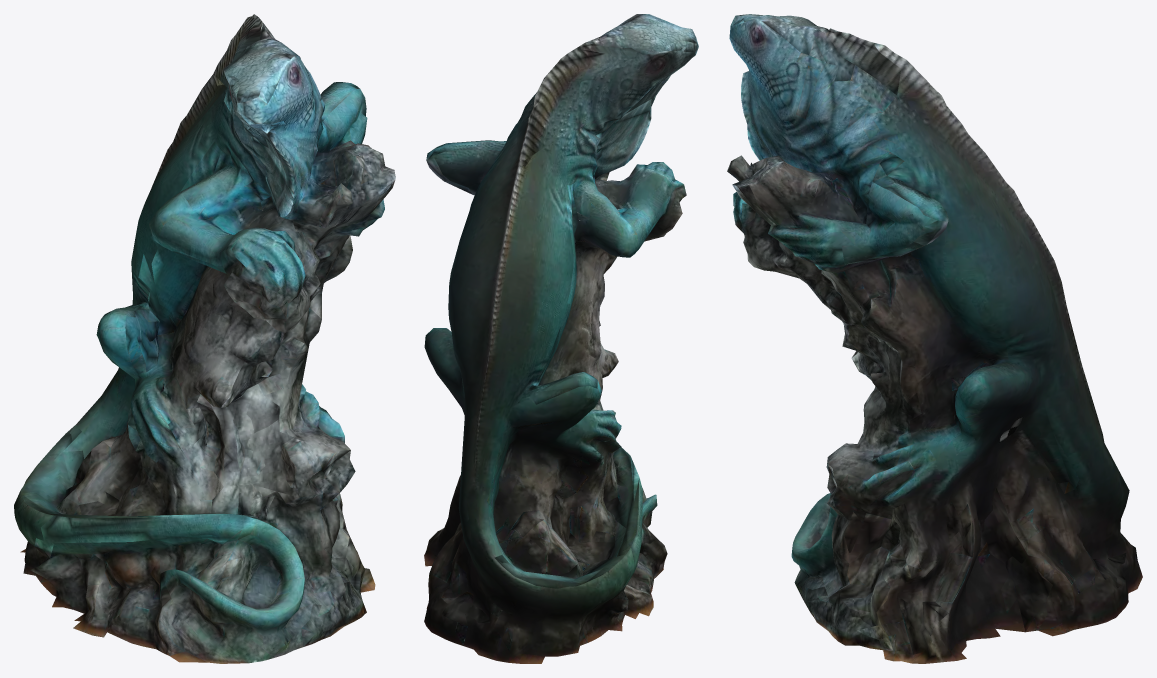
File: bokrug-statue.glb
The picture shows the model from 3 angles, left to right: view 1: azimuth 30°, elevation 25°; view 2: azimuth 150°, elevation 25°; view 3: azimuth 270°, elevation 25°; orthographic projection. The views are drawn at different scales.
Visible parts, largest first — view 1: Body, Head; view 2: Body, Head; view 3: Body, Head.
Boxes of the visible parts, x1=… form: Body: x1=14, y1=74, x2=395, y2=663; Head: x1=213, y1=14, x2=324, y2=177; Body: x1=424, y1=96, x2=686, y2=663; Head: x1=504, y1=14, x2=698, y2=166; Body: x1=727, y1=121, x2=1142, y2=663; Head: x1=729, y1=14, x2=967, y2=161.
Size of the model in its own units: 1.06 by 2.2 by 1.45.
Materials: 1 (1 with a texture image).
